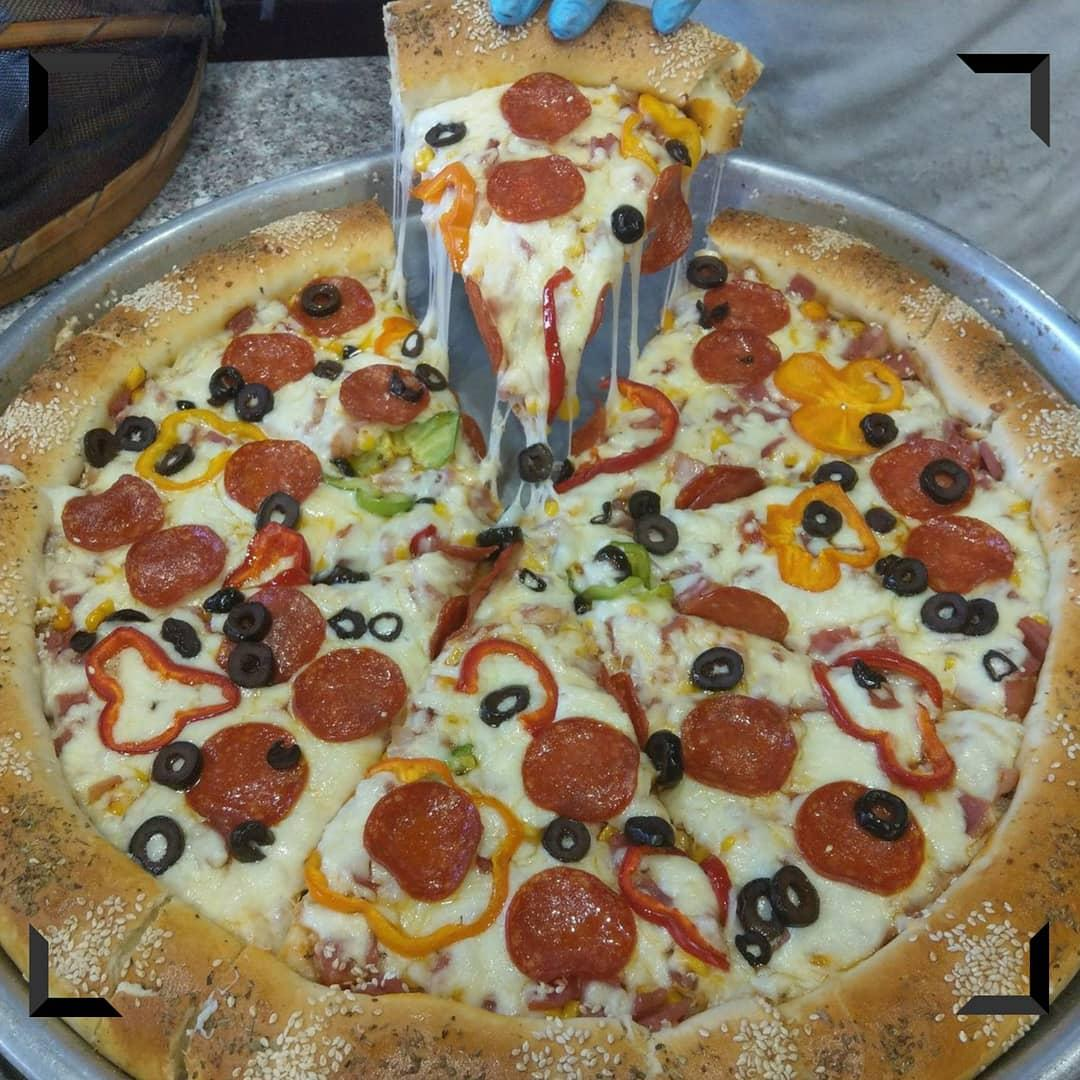Olives: (732, 872, 790, 943), (123, 811, 188, 872), (851, 778, 911, 843), (767, 862, 822, 932), (640, 726, 689, 796), (685, 642, 747, 697), (917, 583, 972, 638), (148, 736, 202, 791), (619, 806, 682, 853), (223, 815, 281, 866), (535, 813, 595, 862), (917, 452, 972, 504), (253, 488, 304, 537), (223, 598, 274, 644), (479, 682, 530, 727), (632, 510, 680, 557), (809, 453, 860, 497), (321, 601, 369, 645), (310, 341, 361, 382), (609, 199, 652, 247), (159, 614, 202, 662), (885, 556, 933, 598), (310, 559, 375, 590), (800, 497, 845, 540), (855, 404, 900, 447), (204, 362, 245, 409), (80, 423, 121, 469), (232, 381, 272, 428), (594, 540, 634, 587), (980, 642, 1021, 686), (732, 926, 772, 971), (964, 591, 1000, 641), (846, 652, 889, 692), (114, 414, 159, 452), (681, 253, 729, 288), (365, 603, 406, 643), (623, 484, 666, 522), (300, 279, 342, 317), (475, 520, 522, 553), (862, 502, 903, 539), (384, 365, 420, 406), (515, 443, 552, 481), (155, 442, 194, 477), (265, 738, 303, 773), (691, 298, 731, 330), (201, 587, 246, 615), (412, 362, 450, 395), (102, 604, 154, 628), (423, 120, 468, 147), (326, 453, 362, 484), (866, 549, 903, 578), (516, 563, 548, 596), (546, 452, 575, 487), (68, 626, 99, 656), (666, 136, 693, 169), (587, 497, 614, 530), (397, 326, 423, 360), (567, 589, 593, 616), (169, 392, 198, 416), (407, 495, 439, 515)
Pepperoni: (790, 771, 930, 901), (499, 864, 640, 983), (362, 777, 485, 908), (667, 684, 804, 801), (183, 716, 310, 837), (518, 710, 644, 825), (284, 640, 412, 750), (424, 539, 522, 665), (215, 581, 326, 687), (900, 510, 1018, 600), (866, 435, 984, 522), (123, 520, 227, 611), (60, 471, 168, 556), (677, 573, 792, 652), (222, 435, 324, 515), (497, 68, 594, 145), (486, 152, 586, 226), (637, 160, 695, 282), (334, 363, 432, 432), (695, 274, 799, 337), (221, 329, 318, 396), (688, 323, 787, 388), (285, 274, 378, 338), (670, 461, 769, 510), (461, 274, 507, 377), (584, 279, 613, 355), (431, 535, 497, 566), (459, 411, 490, 464)
Peppers: (300, 754, 524, 960), (808, 647, 957, 796), (83, 623, 241, 757), (612, 816, 733, 974), (550, 367, 686, 496), (757, 469, 880, 598), (769, 345, 905, 461), (320, 407, 459, 516), (429, 633, 559, 740), (134, 404, 269, 493), (559, 540, 678, 608), (616, 94, 703, 183), (536, 262, 580, 430), (216, 520, 312, 596), (369, 315, 422, 358), (411, 142, 438, 174)
Pizza: (0, 0, 1080, 1080)
